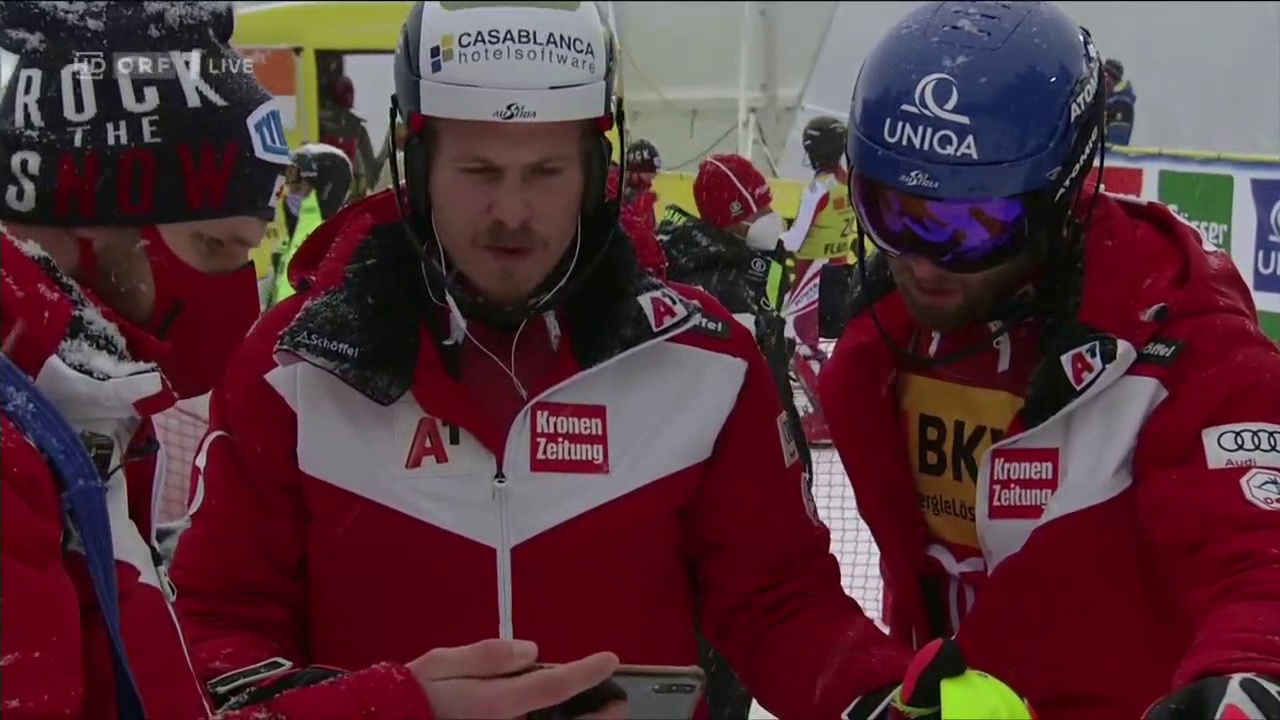a1: (401, 415, 469, 471), (1062, 343, 1112, 391), (644, 293, 684, 331)
audi: (1216, 423, 1278, 465)
kronenzeitung: (530, 406, 612, 471), (988, 451, 1061, 515)
uniqa: (894, 76, 983, 164), (1253, 195, 1279, 290)
